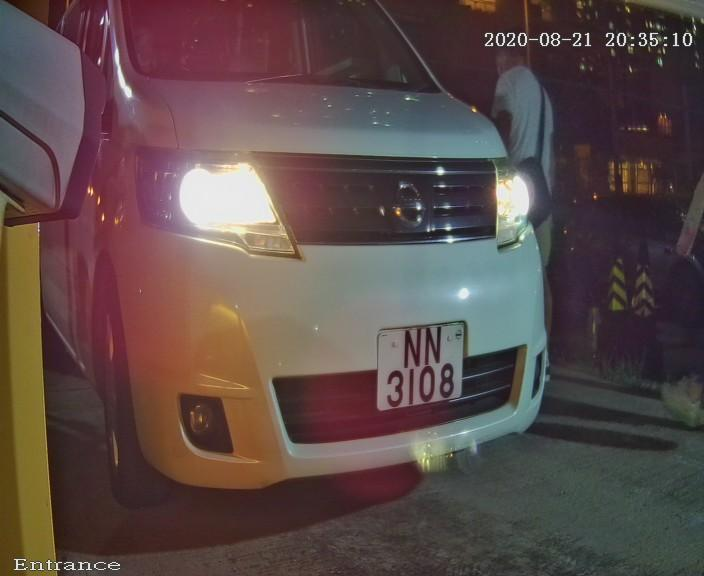Car: (26, 8, 604, 538)
License Plate: (349, 299, 491, 428)
